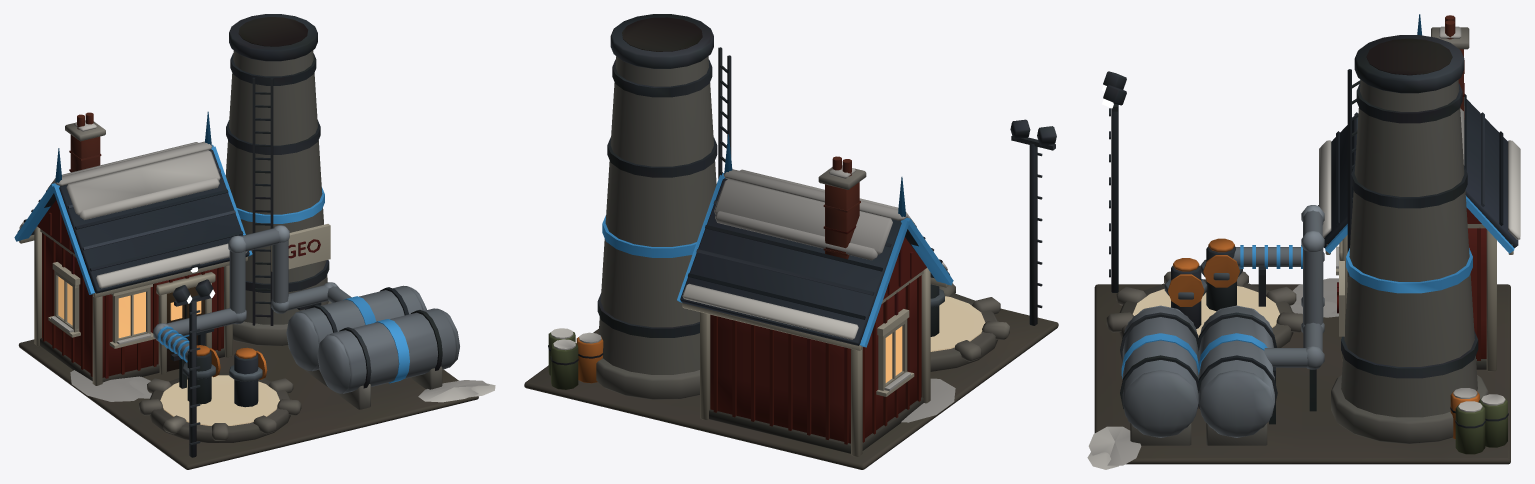
File: reactor.glb
3 views of the same model, side by side, from view 1: azimuth 30°, elevation 25°; view 2: azimuth 150°, elevation 25°; view 3: azimuth 270°, elevation 25° (orthographic). The views are drawn at different scales.
Parts seen in each view (by area): view 1: reactor_root_matte, reactor_root_metal, reactor_root_glass, reactor_root_trim; view 2: reactor_root_matte, reactor_root_metal, reactor_root_trim, reactor_root_glass; view 3: reactor_root_matte, reactor_root_metal, reactor_root_trim, reactor_root_glass.
Part boxes in pixels (x1,y1,x2,y2): reactor_root_matte: (17,17,495,469); reactor_root_metal: (153,14,459,457); reactor_root_glass: (58,276,279,425); reactor_root_trim: (14,111,409,383); reactor_root_matte: (524,17,1058,469); reactor_root_metal: (597,14,1056,337); reactor_root_trim: (602,134,953,347); reactor_root_glass: (885,296,985,382); reactor_root_matte: (1087,15,1520,469); reactor_root_metal: (1103,35,1478,437); reactor_root_trim: (1121,14,1514,378); reactor_root_glass: (1132,286,1279,337).
Size of the model in its own units: 8.92 by 7.86 by 8.53.
